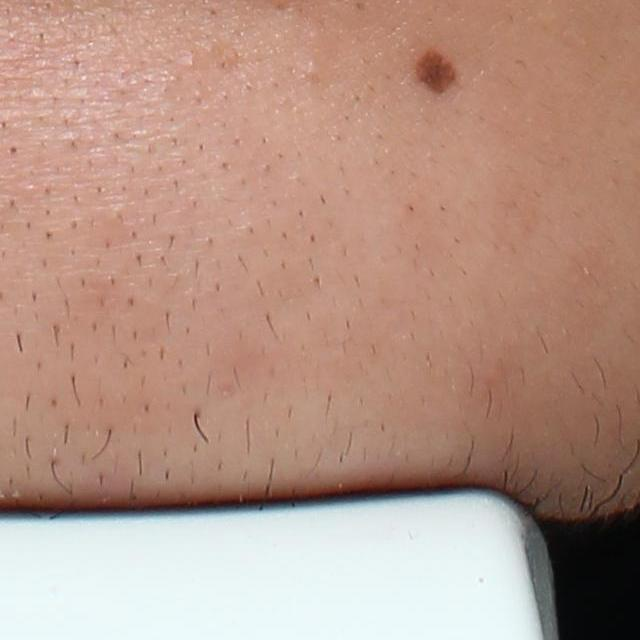nevus: (413, 46, 460, 96)
